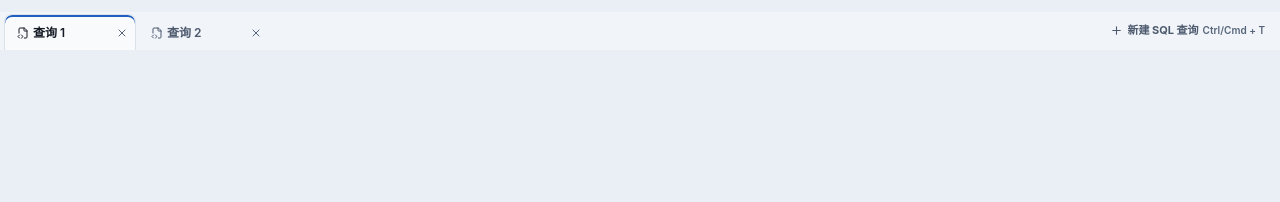
WorkspaceTabs › closes the tab menu on Escape
Right-click the tab "查询 1" at [57, 32], box [5, 15, 109, 50]
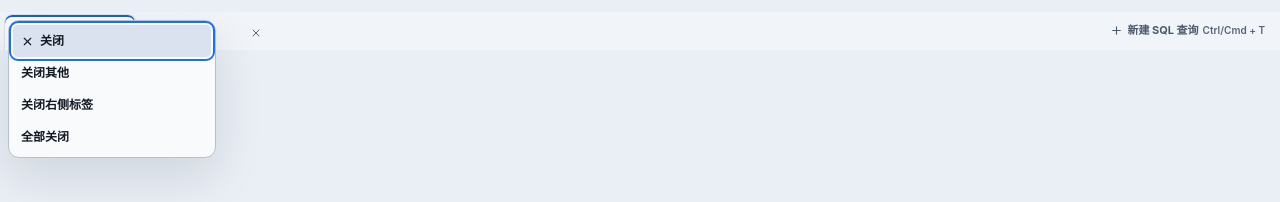
expect the menu named "工作区标签操作" is shown: met, box [8, 20, 216, 158]
Press Escape
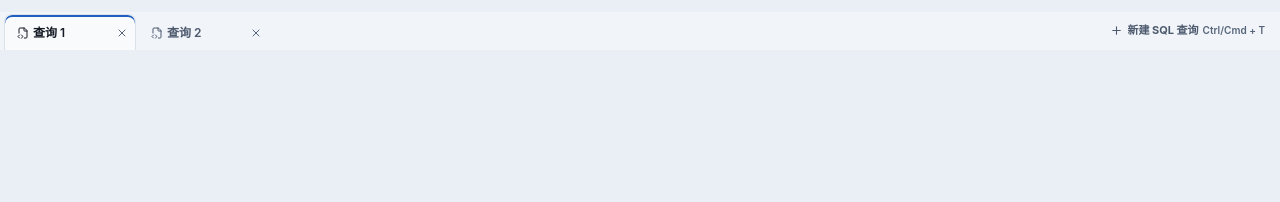
expect the menu "工作区标签操作" is gone: met
